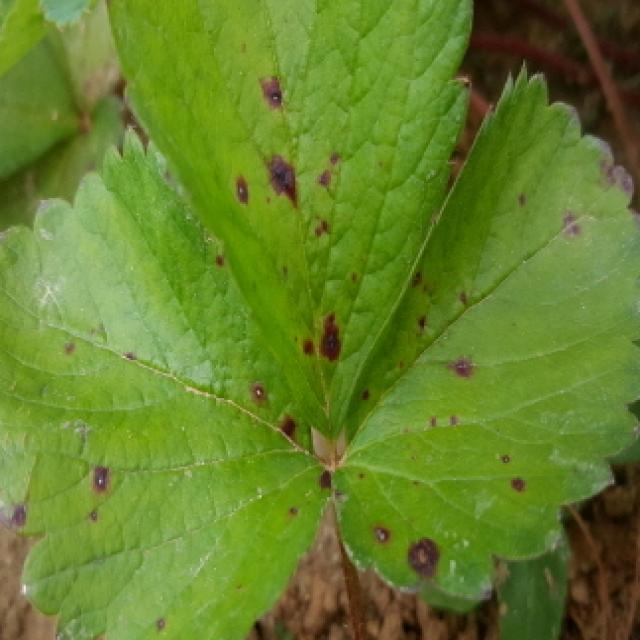Leaf Spot: (329, 57, 640, 614), (0, 121, 329, 640), (104, 0, 474, 442)
